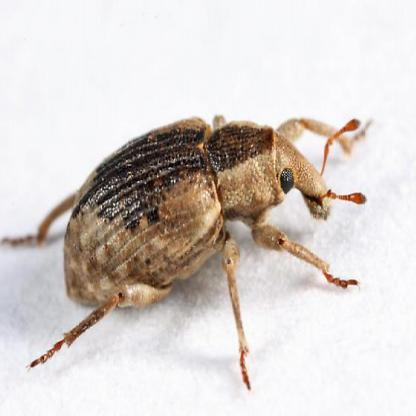rice-bug: (55, 112, 344, 354)
